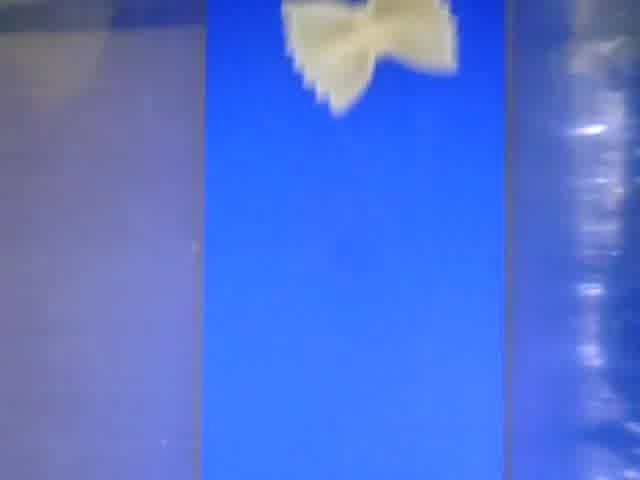farfalle: (279, 1, 459, 119)
